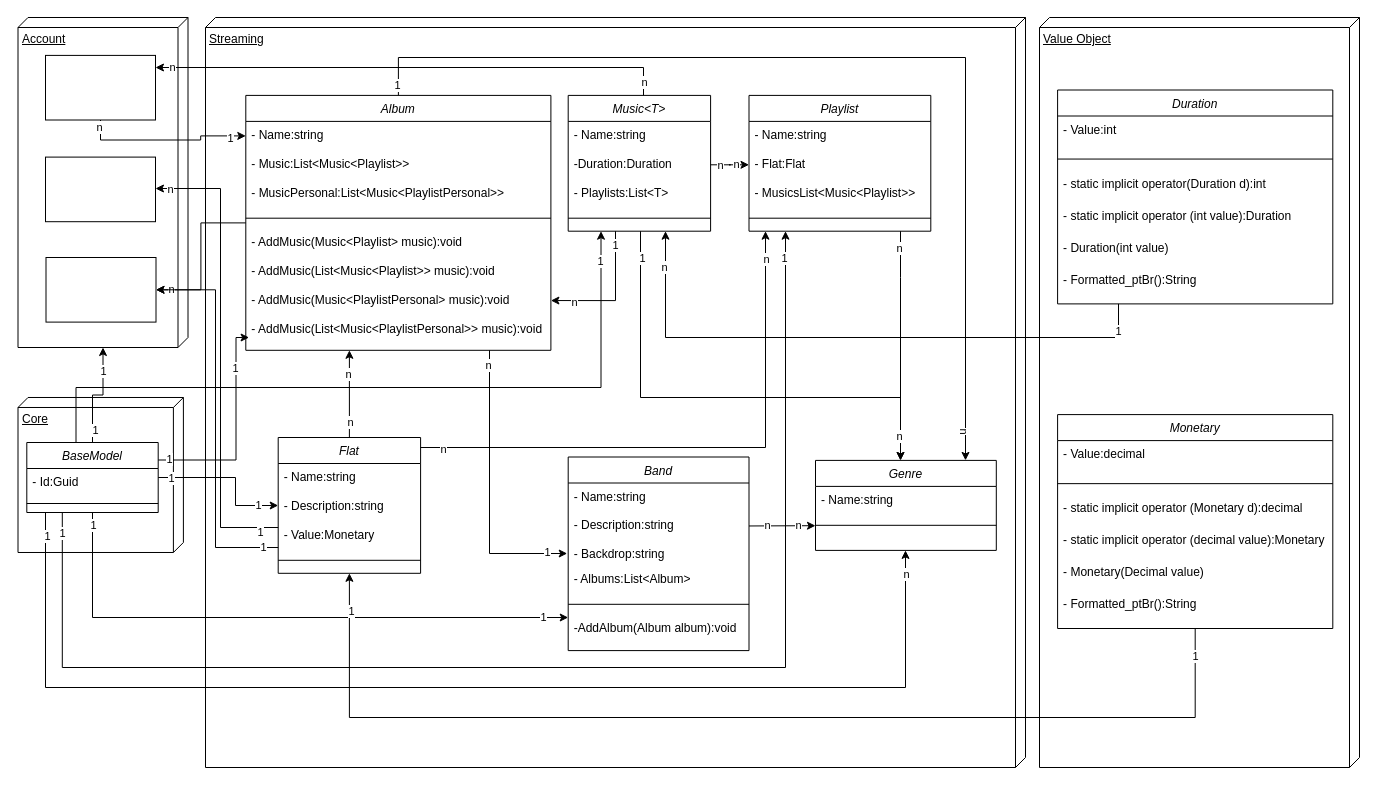
Image size: 1377x785. Some labels were removed from this diagram. Each missing label, with the centre of its shape:
Customer: point (100, 189)
Merchant: point (100, 289)
PlaylistPersonal: point (100, 87)
